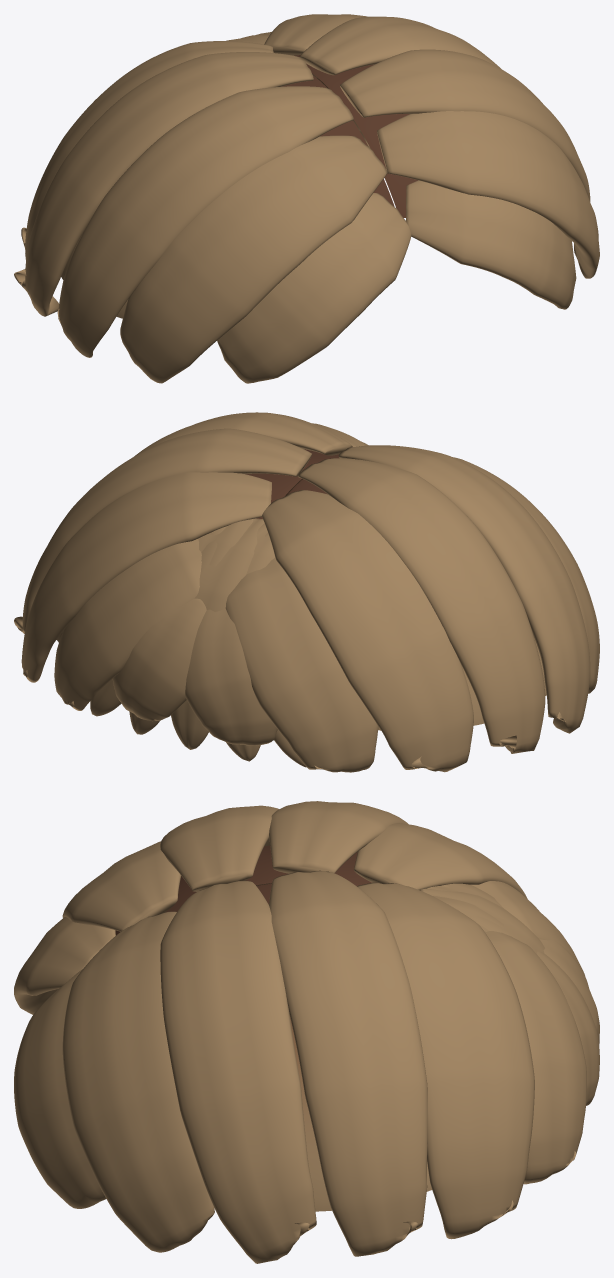
The model's file is Masculine-middle-part-hair260-ombre.glb.
3 renders of one model, top to bottom at view 1: azimuth 30°, elevation 25°; view 2: azimuth 150°, elevation 25°; view 3: azimuth 270°, elevation 25°, orthographic. The views are drawn at different scales.
Visible parts, largest first — view 1: 226 hair / Hair260 / layered middle-part; view 2: 226 hair / Hair260 / layered middle-part; view 3: 226 hair / Hair260 / layered middle-part.
Part boxes in pixels (x1,y1,x2,y2): 226 hair / Hair260 / layered middle-part: (14,14,599,383); 226 hair / Hair260 / layered middle-part: (14,412,599,772); 226 hair / Hair260 / layered middle-part: (14,801,599,1263).
Size of the model in its own units: 1.03 by 0.4519 by 0.8741.
